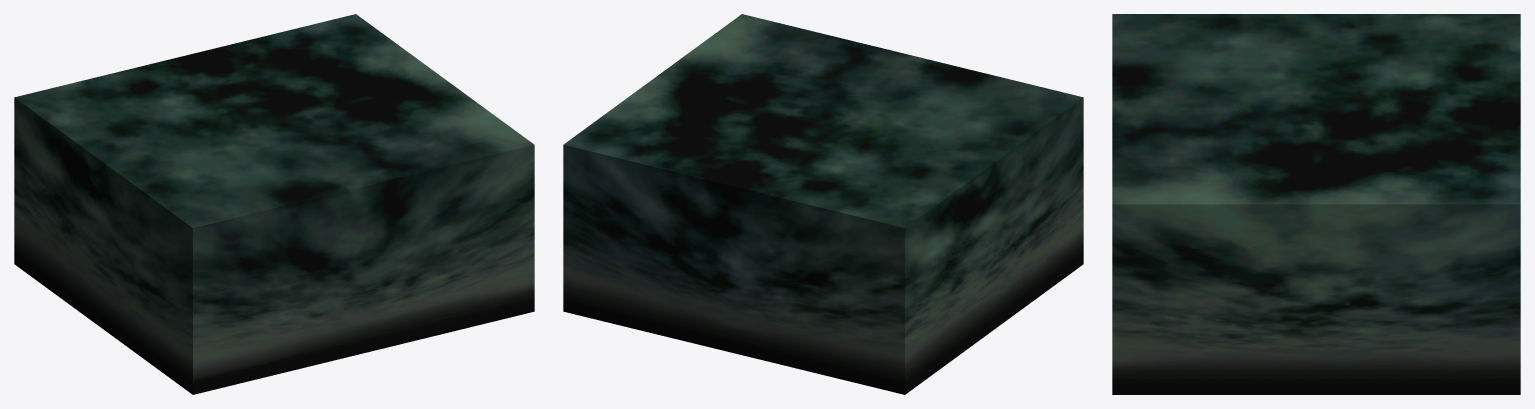
Rendered from house.glb.
3 renders of one model, left to right at view 1: azimuth 30°, elevation 25°; view 2: azimuth 150°, elevation 25°; view 3: azimuth 270°, elevation 25°, orthographic. The views are drawn at different scales.
Visible parts, largest first — view 1: Object_13, Object_14; view 2: Object_13, Object_14; view 3: Object_13, Object_14.
Part boxes in pixels (x1,y1,x2,y2): Object_13: (14,97,534,394); Object_14: (14,14,534,227); Object_13: (563,97,1083,394); Object_14: (563,14,1083,227); Object_13: (1112,204,1520,394); Object_14: (1112,14,1520,204).
Size of the model in its own units: 509 by 238 by 461.
46 materials, 24 textured.
